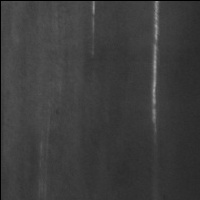scratches: (148, 1, 162, 134)
